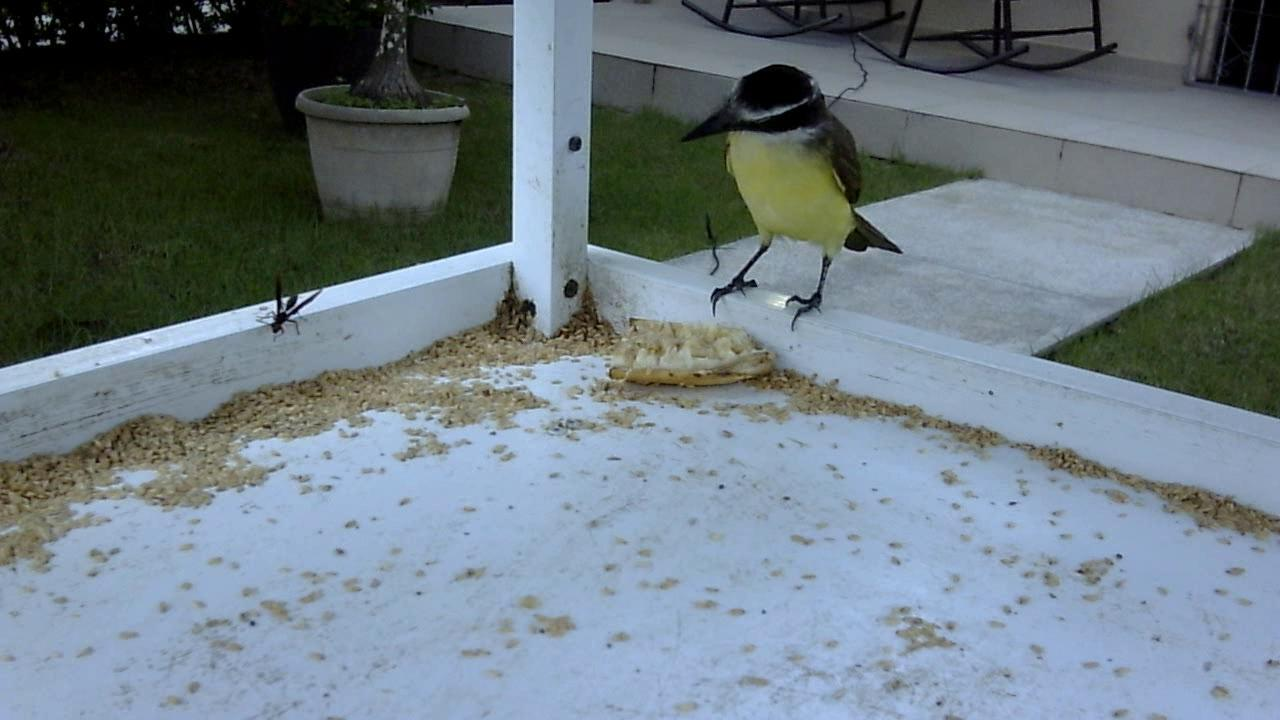bem_te_vi: (663, 50, 911, 346)
